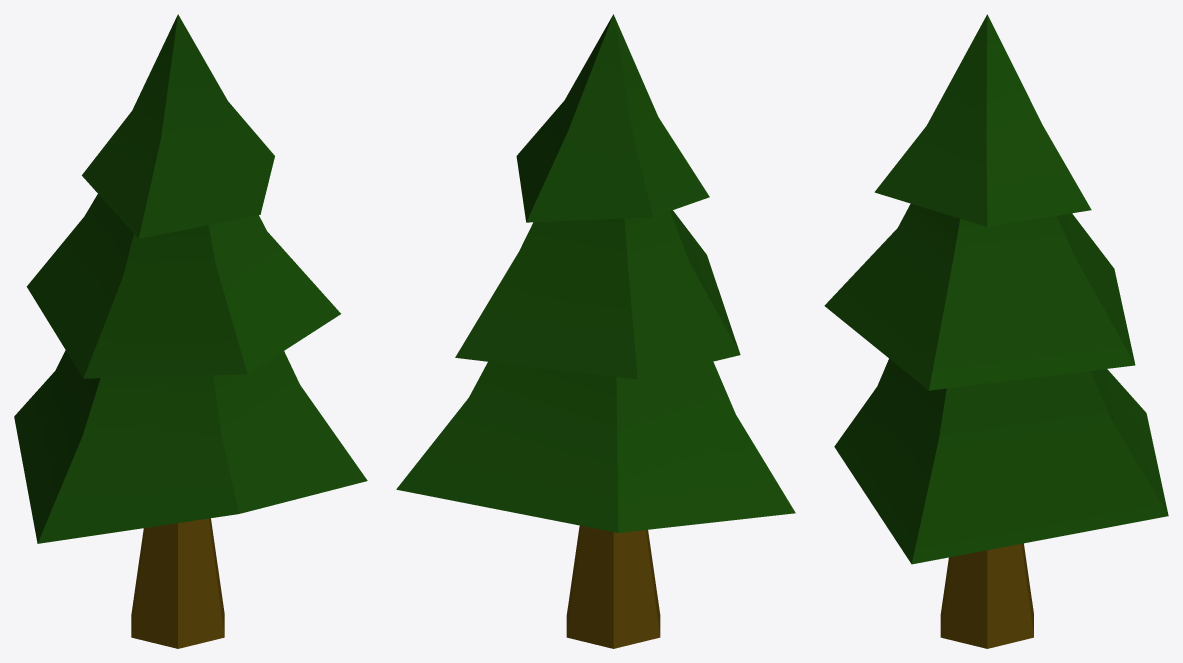
File: tree1.fbx
3 views of the same model, side by side, from view 1: azimuth 30°, elevation 25°; view 2: azimuth 150°, elevation 25°; view 3: azimuth 270°, elevation 25° (orthographic).
Visible parts, largest first — view 1: tree1; view 2: tree1; view 3: tree1.
Part boxes in pixels (left/top/right/bottom): tree1: left=14, top=14, right=367, bottom=648; tree1: left=396, top=14, right=795, bottom=648; tree1: left=824, top=14, right=1168, bottom=648.
Bounding box in the file's own units: 3.17 × 5.93 × 3.02.
